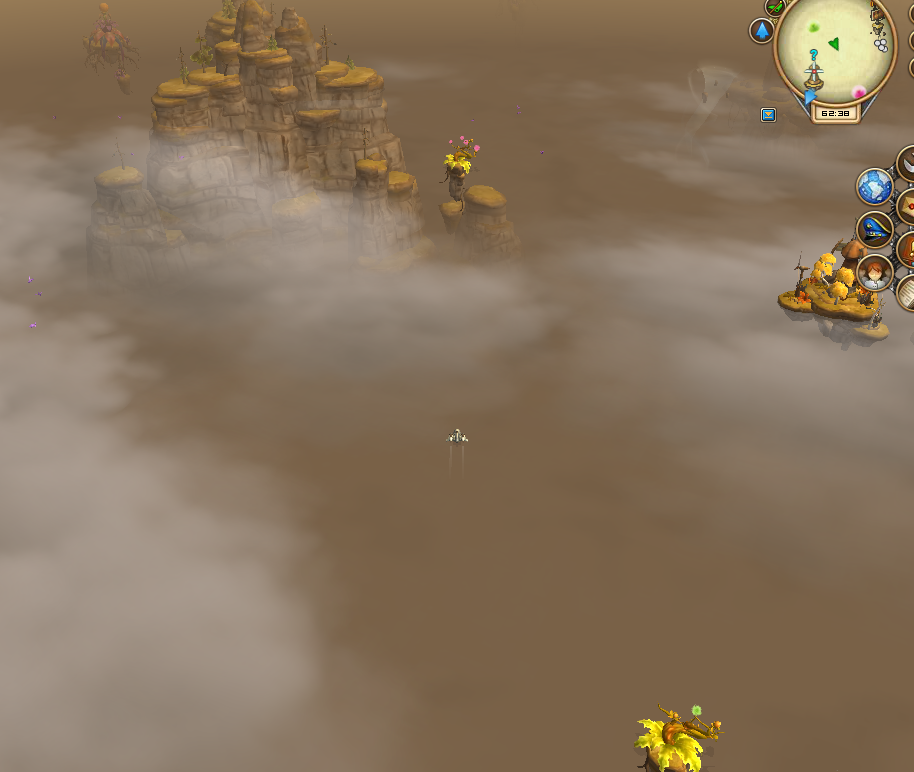dandelion-full: (626, 689, 727, 772), (435, 127, 484, 190)
